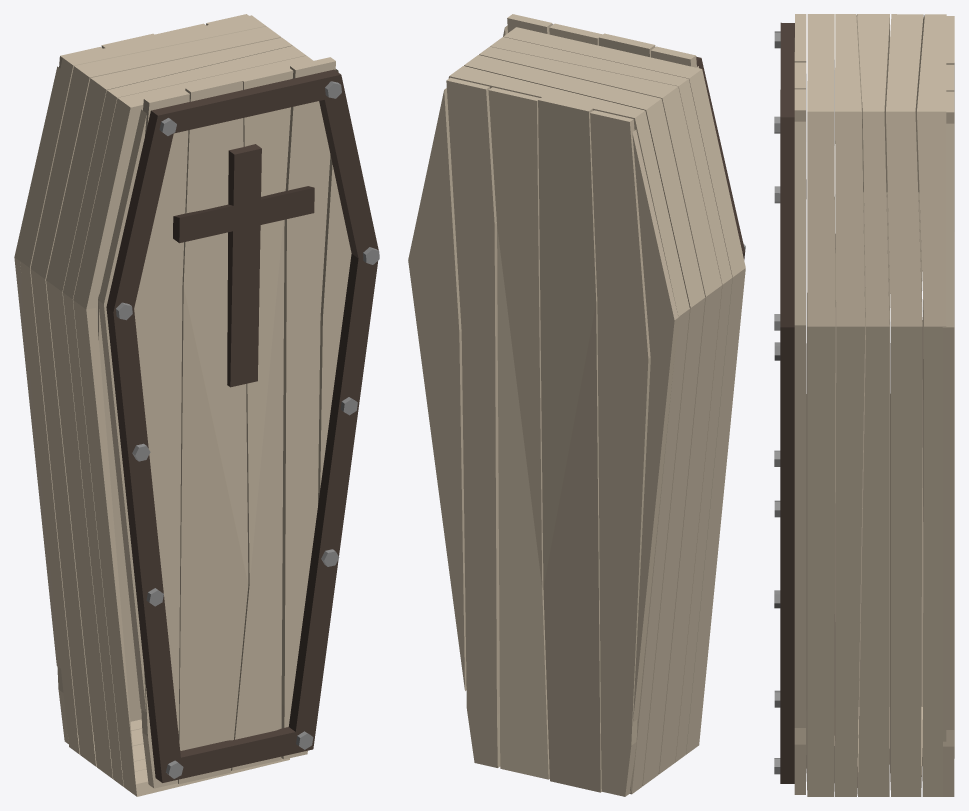
Rendered from Coffin_2.fbx.
3 renders of one model, left to right at view 1: azimuth 30°, elevation 25°; view 2: azimuth 150°, elevation 25°; view 3: azimuth 270°, elevation 25°, orthographic. The views are drawn at different scales.
Parts seen in each view (by area): view 1: Coffin_2; view 2: Coffin_2; view 3: Coffin_2.
Boxes of the visible parts, x1,y1,x2,y2 form: Coffin_2: (14,14,379,796); Coffin_2: (408,14,745,796); Coffin_2: (774,14,954,796).
Size of the model in its own units: 87.42 by 47.56 by 206.
